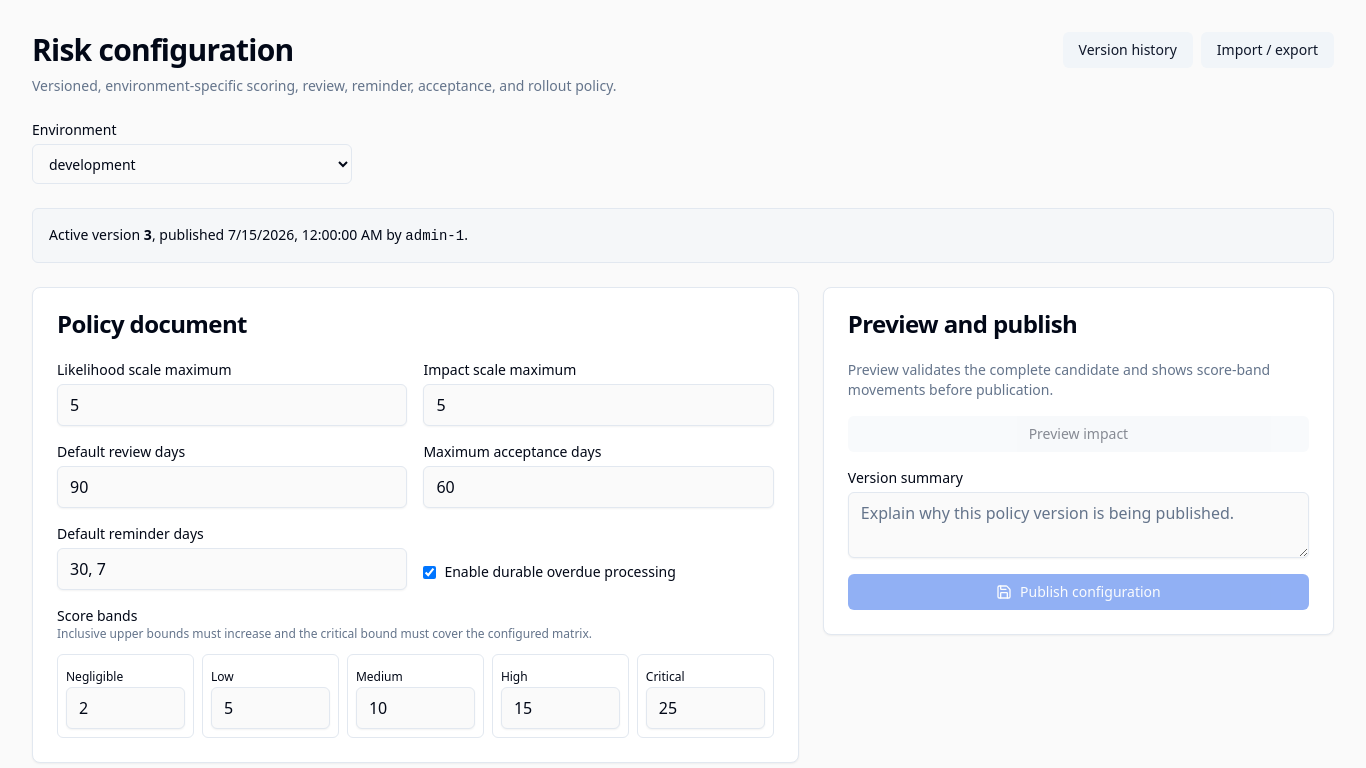
Test case: compliance risk page coverage › keeps configuration publication fail-closed until a valid preview and summary exist
This screenshot has width=1366, height=768.
expect the heading "Risk configuration" is shown: met, box [32,29,294,70]
expect the button "Publish configuration" is disabled: met, box [848,574,1309,610]
Replace the text in the number field named "high maximum score" with "4" at (560, 708), box [501,687,620,729]
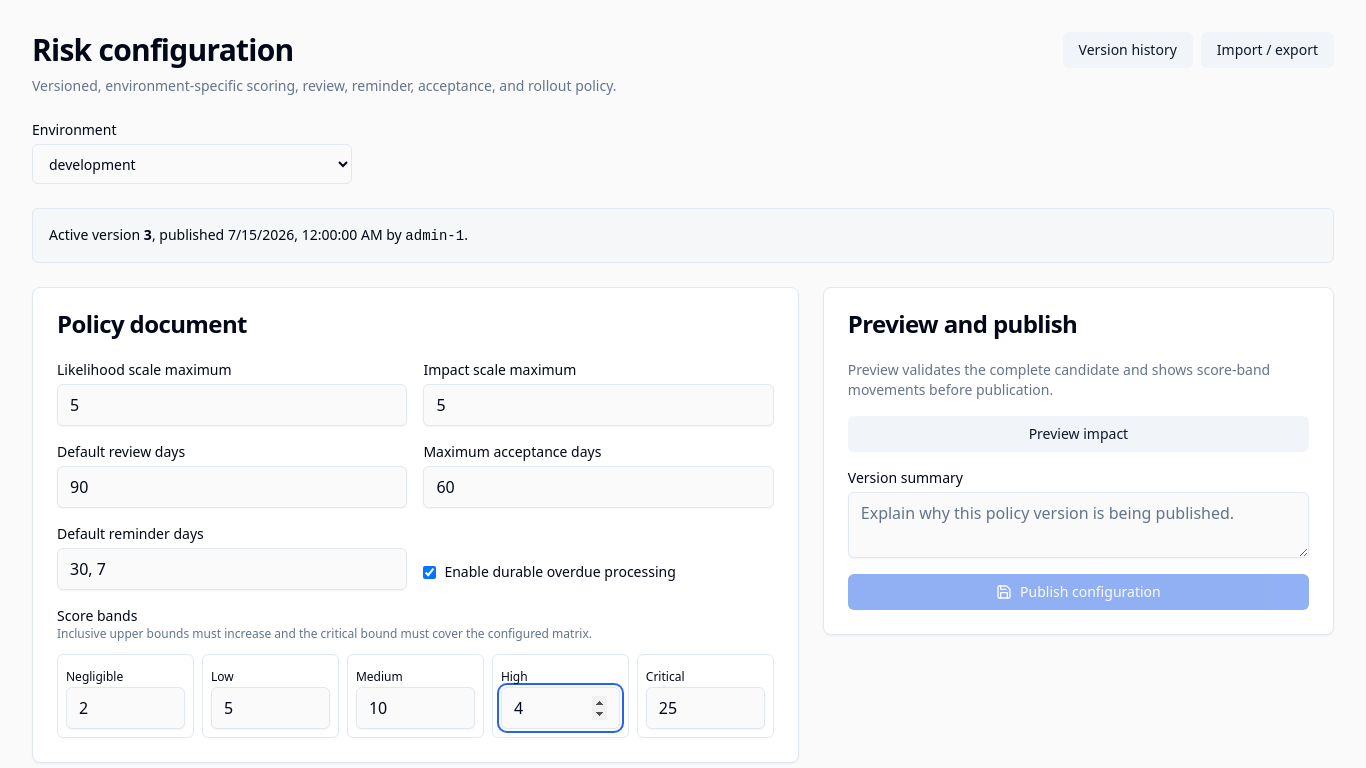
Type "Invalid threshold" into the text box labelled "Version summary" at (1078, 525), box [848,492,1309,558]
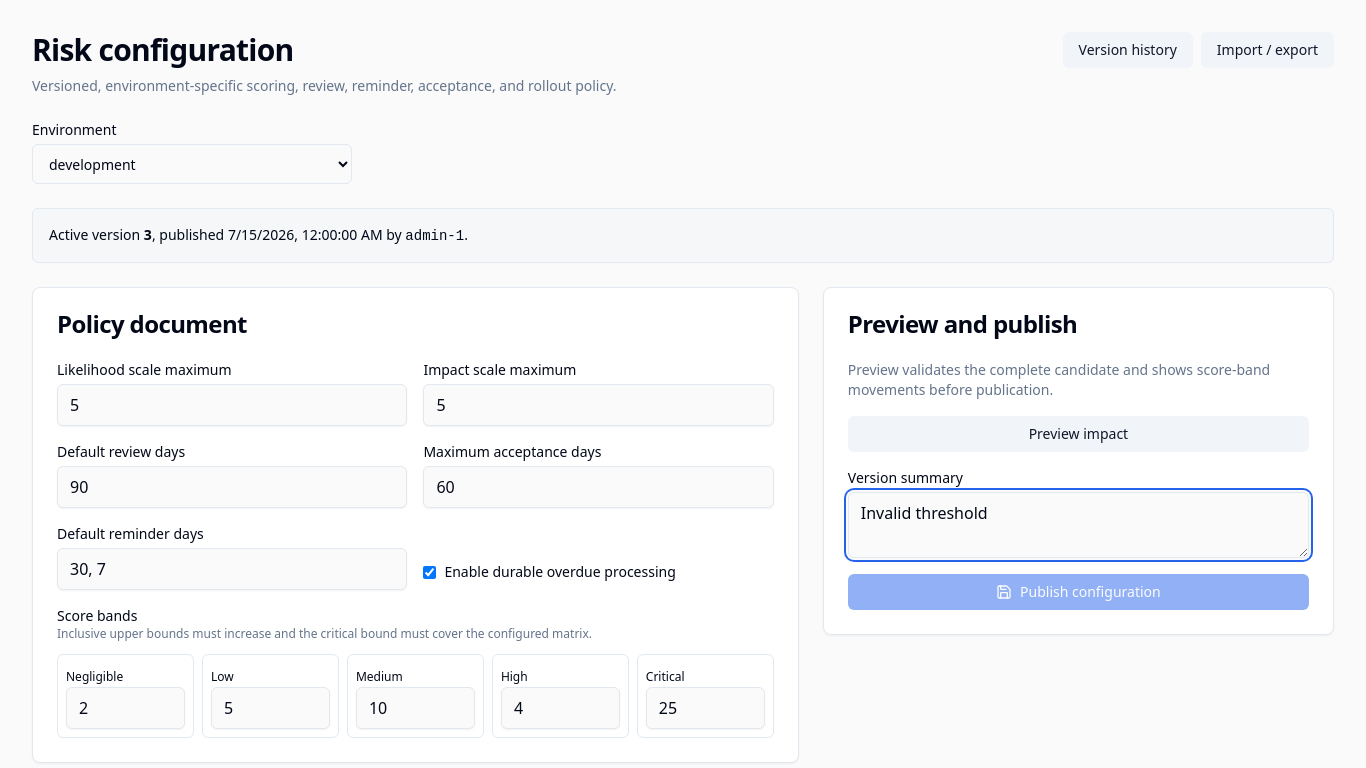
Click the button "Preview impact" at (1078, 434), box [848,416,1309,452]
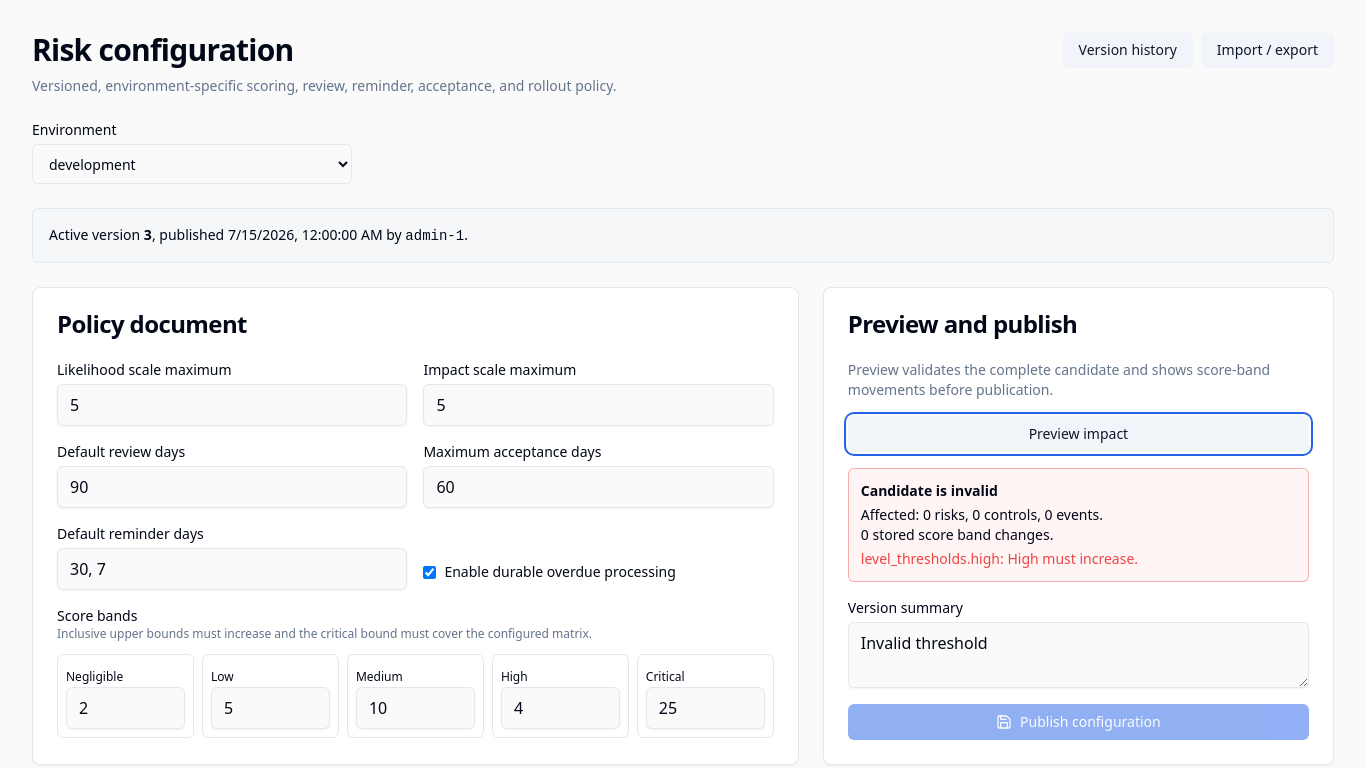
expect the button "Publish configuration" is disabled: met, box [848,704,1309,740]
expect the message shows "Candidate is invalid": met, box [861,481,998,500]
expect the text "level_thresholds.high: High must increase." is shown: met, box [861,549,1138,568]
